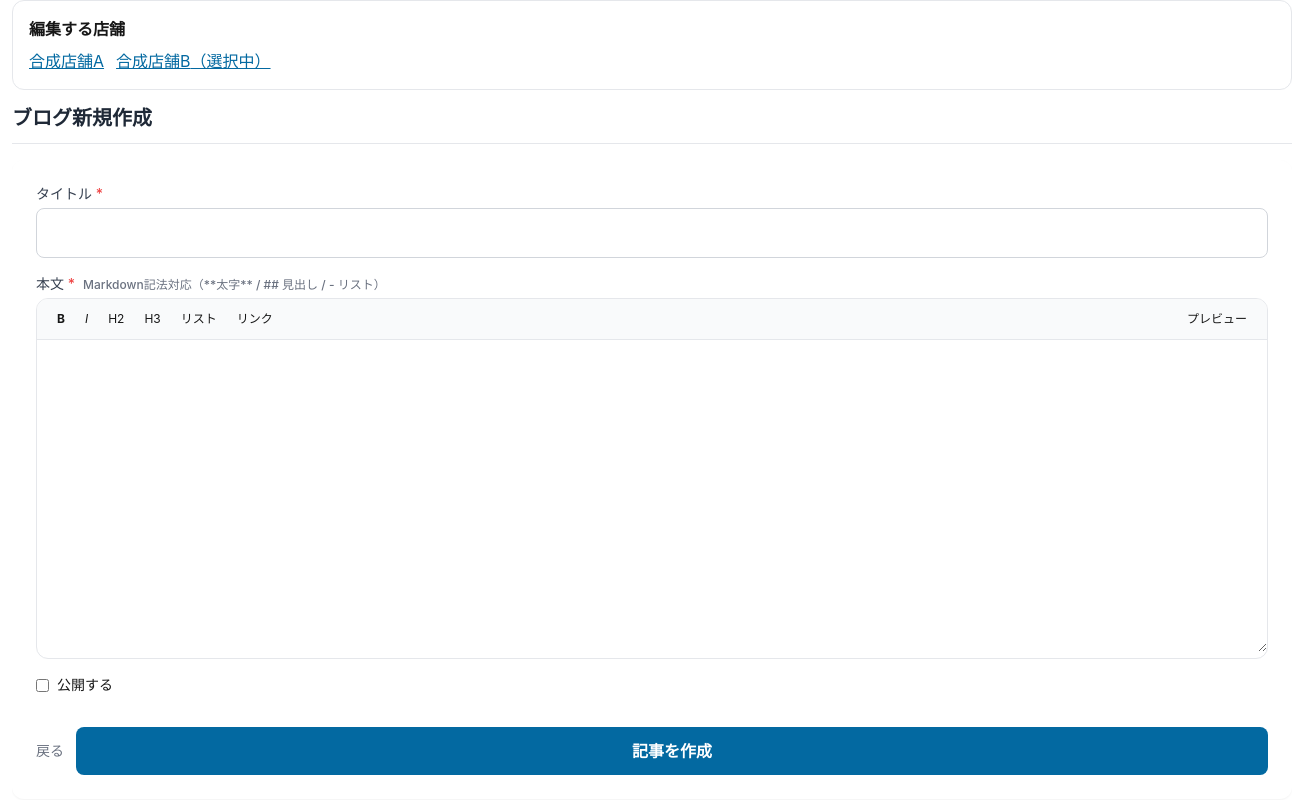
it: ブログ新規 network failure is reported and the button is usable again
Type "合成記事" into the field labelled "タイトル *" at [652, 233], box [36,208,1268,258]
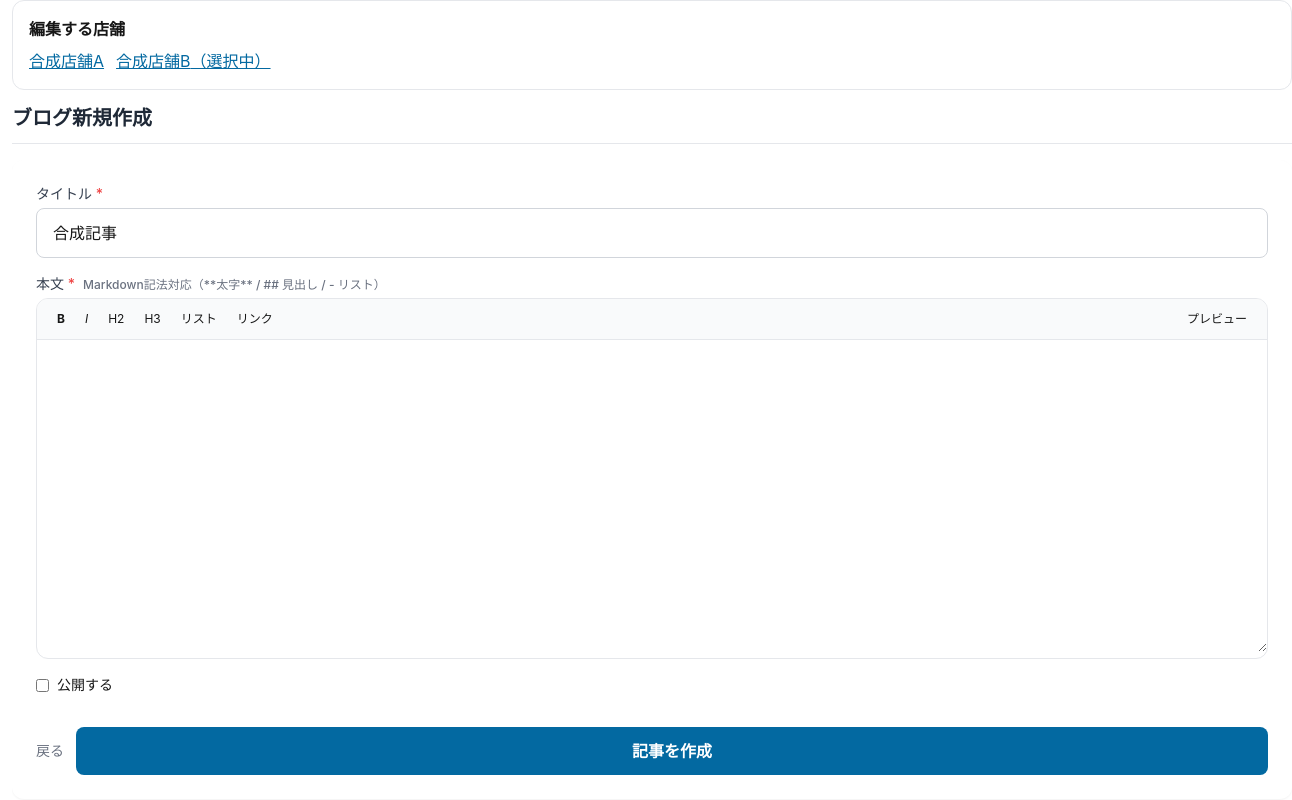
Type "合成の本文です" into the text box labelled "本文 *Markdown記法対応（**太字** / ## 見出し / - リスト）" at [652, 496], box [37,340,1267,652]
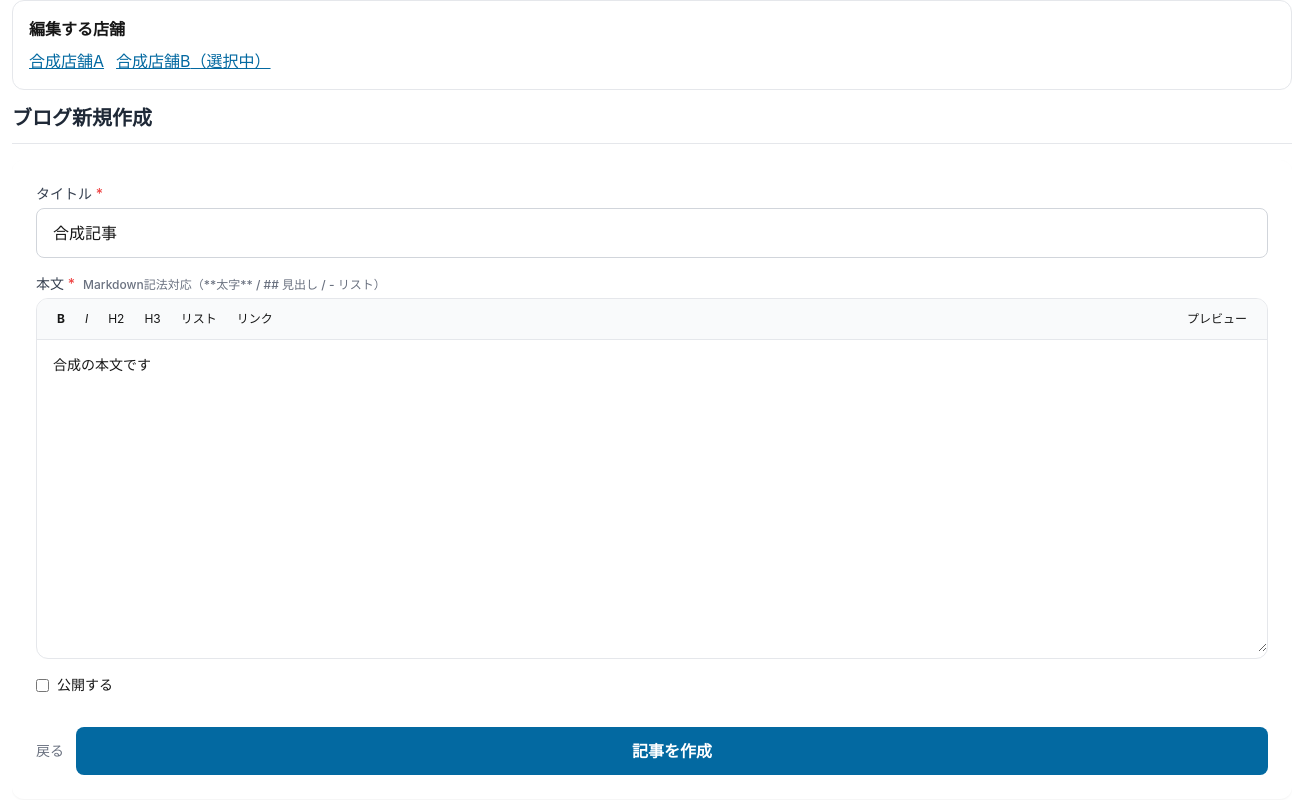
Click the button "記事を作成" at [672, 751], box [76,727,1268,775]
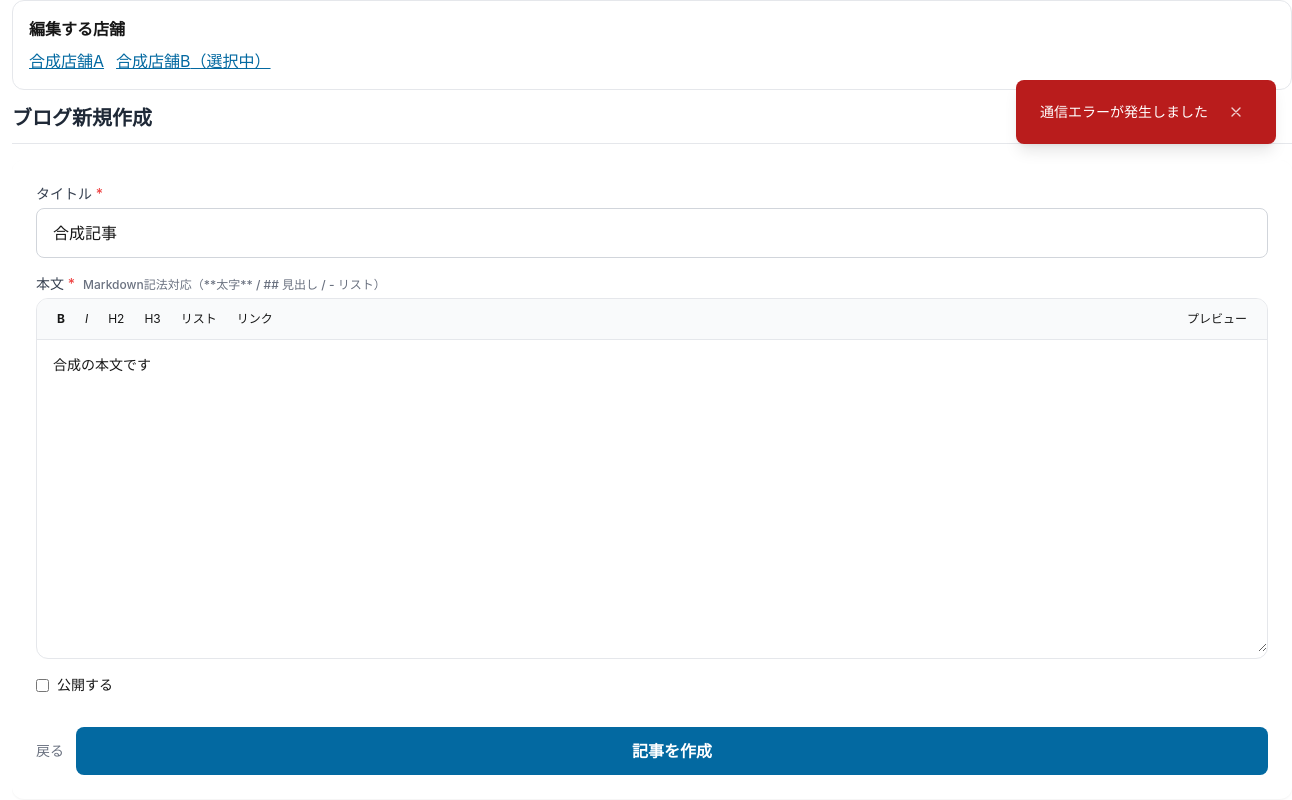
Check: the text "通信エラーが発生しました" is shown, box [1040,102,1208,122]
